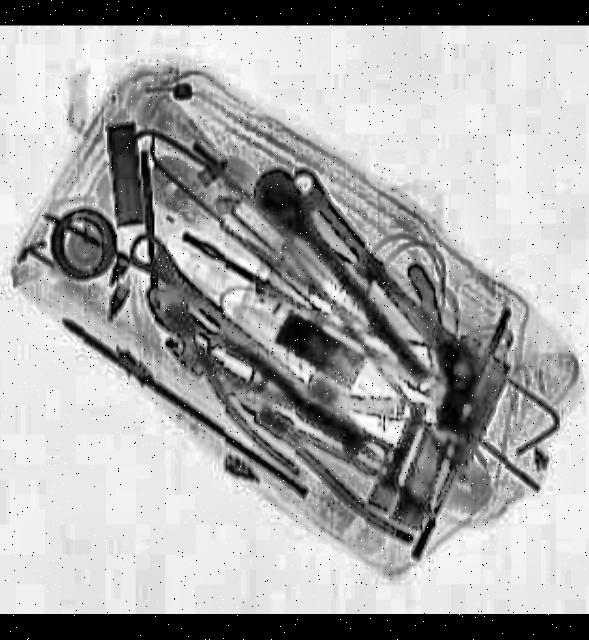Pliers: (230, 380, 447, 560), (150, 315, 337, 482)
Wrench: (126, 231, 396, 484), (283, 166, 482, 391)
